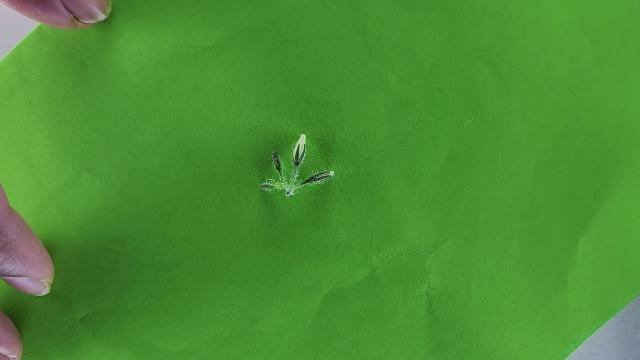Flower Bud: (300, 170, 334, 186), (292, 133, 307, 166), (271, 150, 282, 176), (258, 181, 278, 191)
